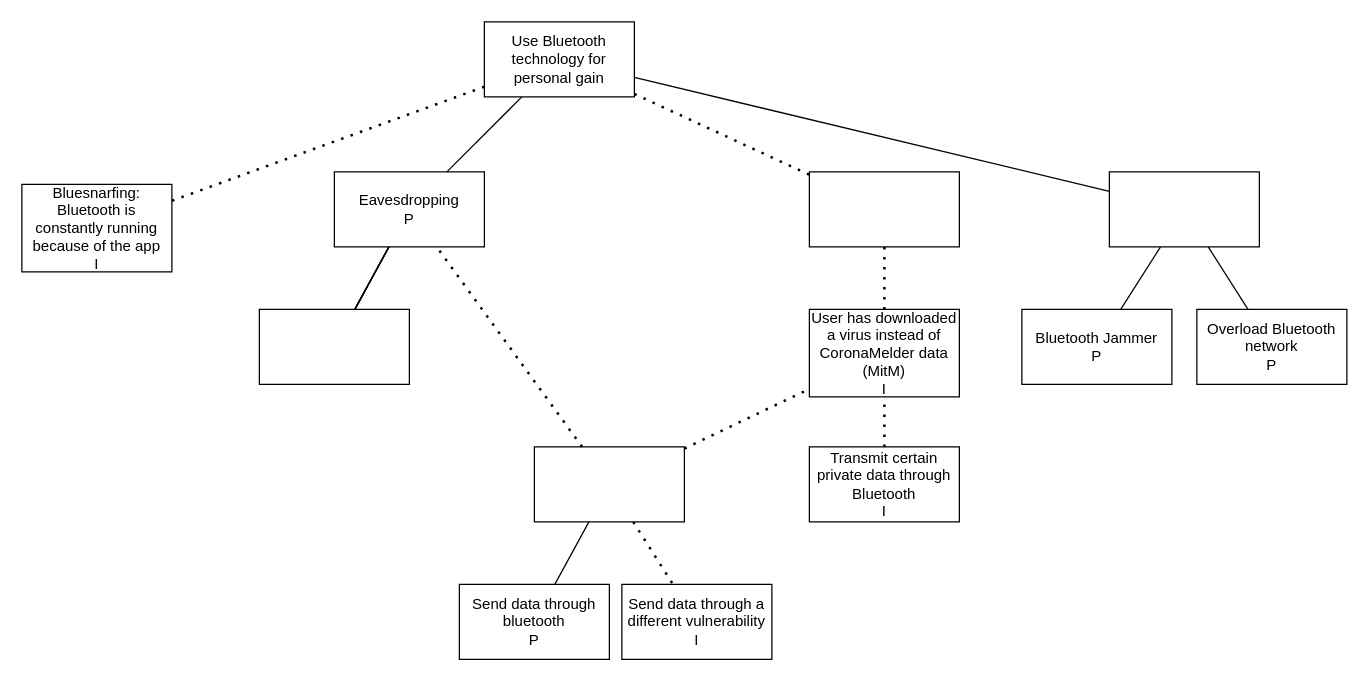
Some shapes in this 1369 by 681 pixel diagram are drawn without their labels. The box of each missing label's shape, as (x1, y1, x2, y2) in pixels:
Denial of service P: (1108, 171, 1259, 247)
Intercept packets between CoronaMelder users P: (258, 308, 409, 384)
Open up microphone/camera of phone I: (533, 446, 684, 522)
Viruses and worms I: (808, 171, 959, 247)
